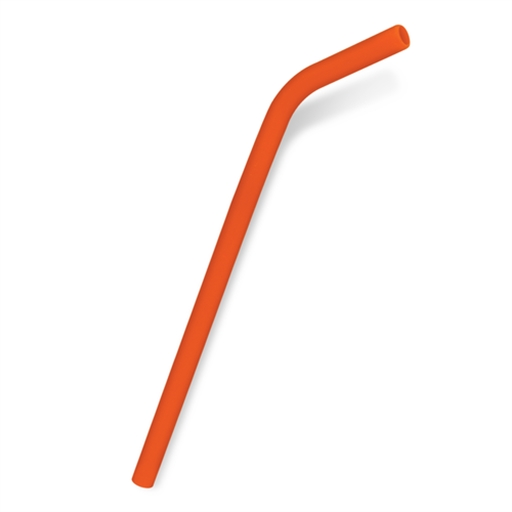Drinking Straw: (129, 22, 414, 491)
